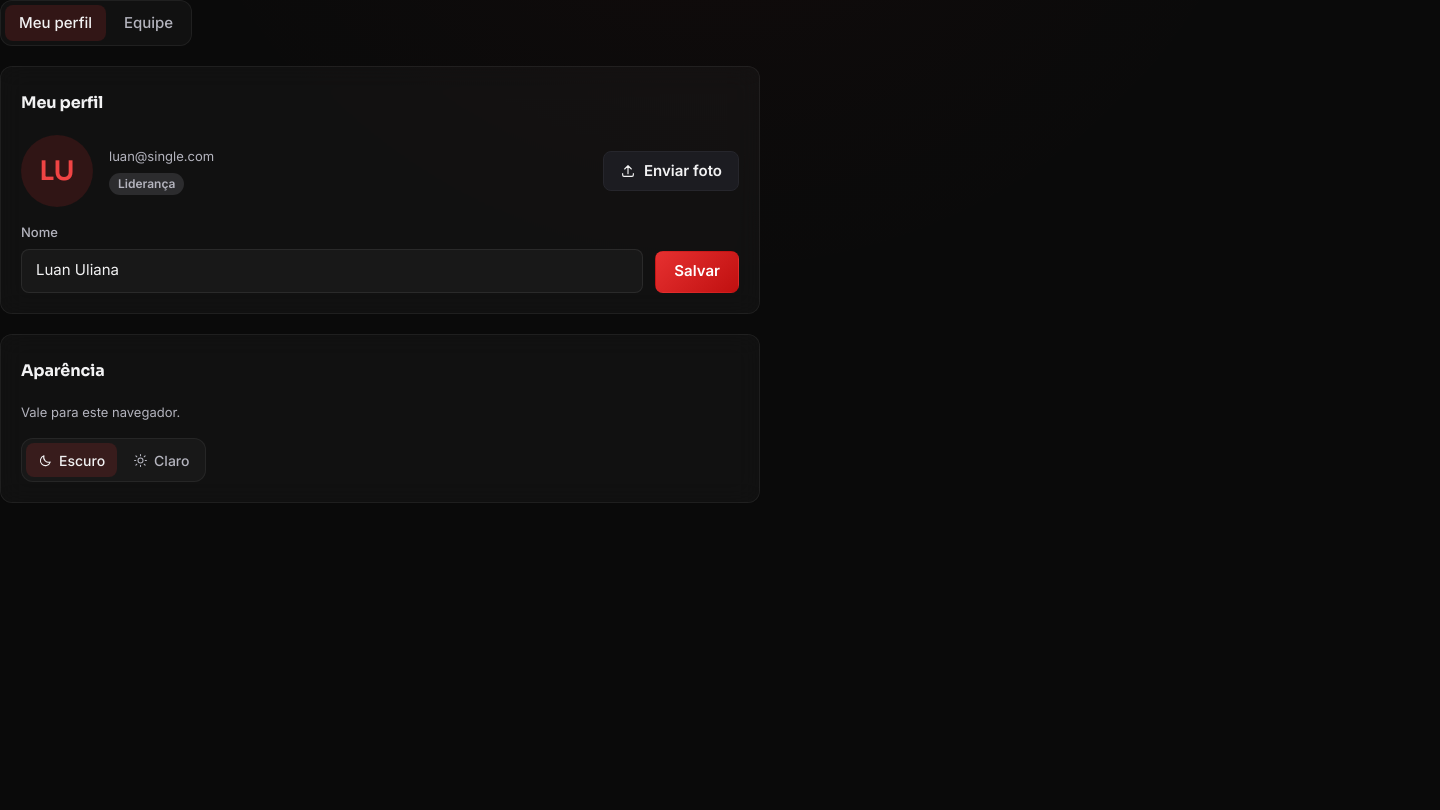
aba Equipe › desfaz e avisa quando o banco recusa a troca de cargo
The image size is (1440, 810).
Click the tab "Equipe" at (149, 23), box left=110, top=5, right=187, bottom=41
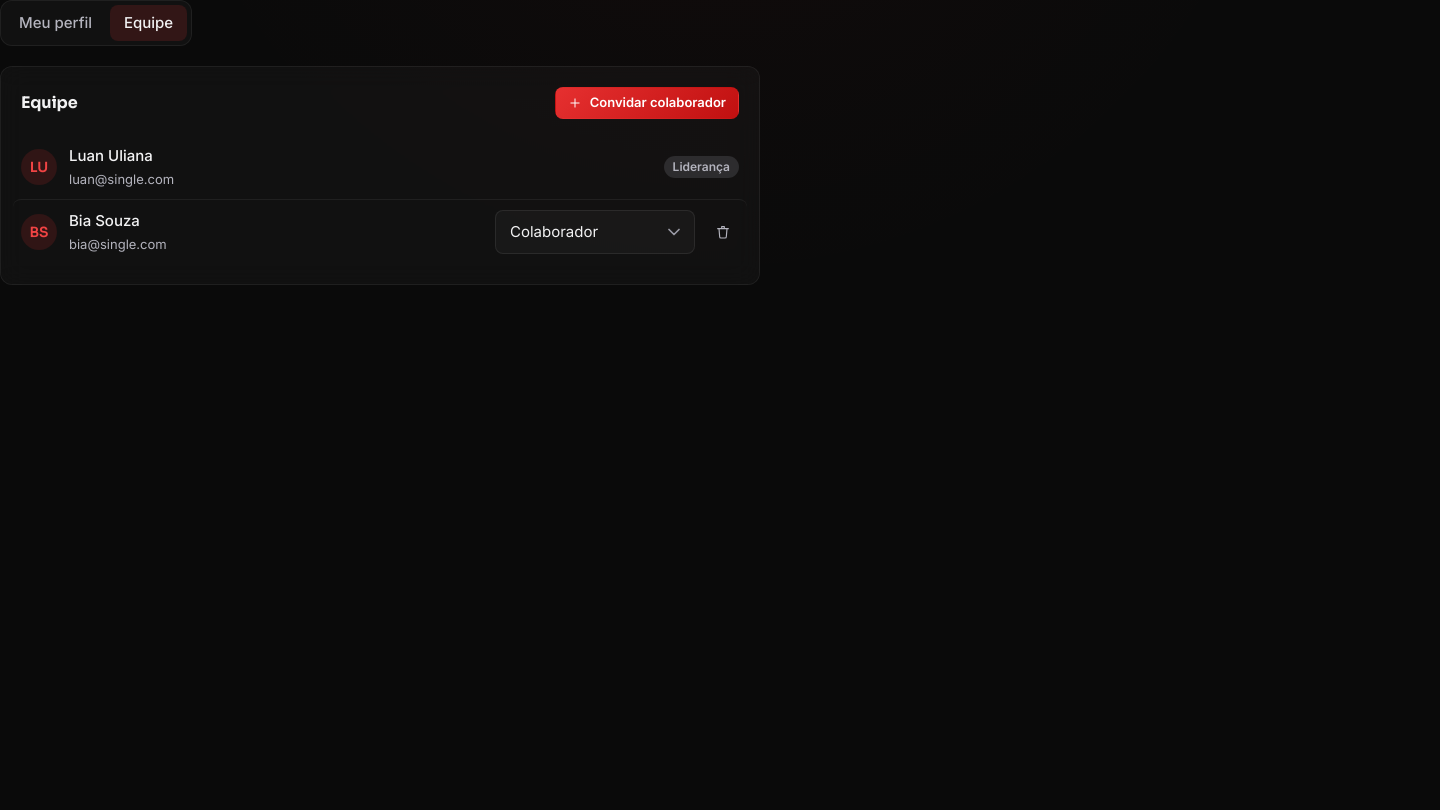
Select "Colaborador" in the dropdown named "Cargo de Bia Souza" at (595, 232), box left=495, top=210, right=695, bottom=254
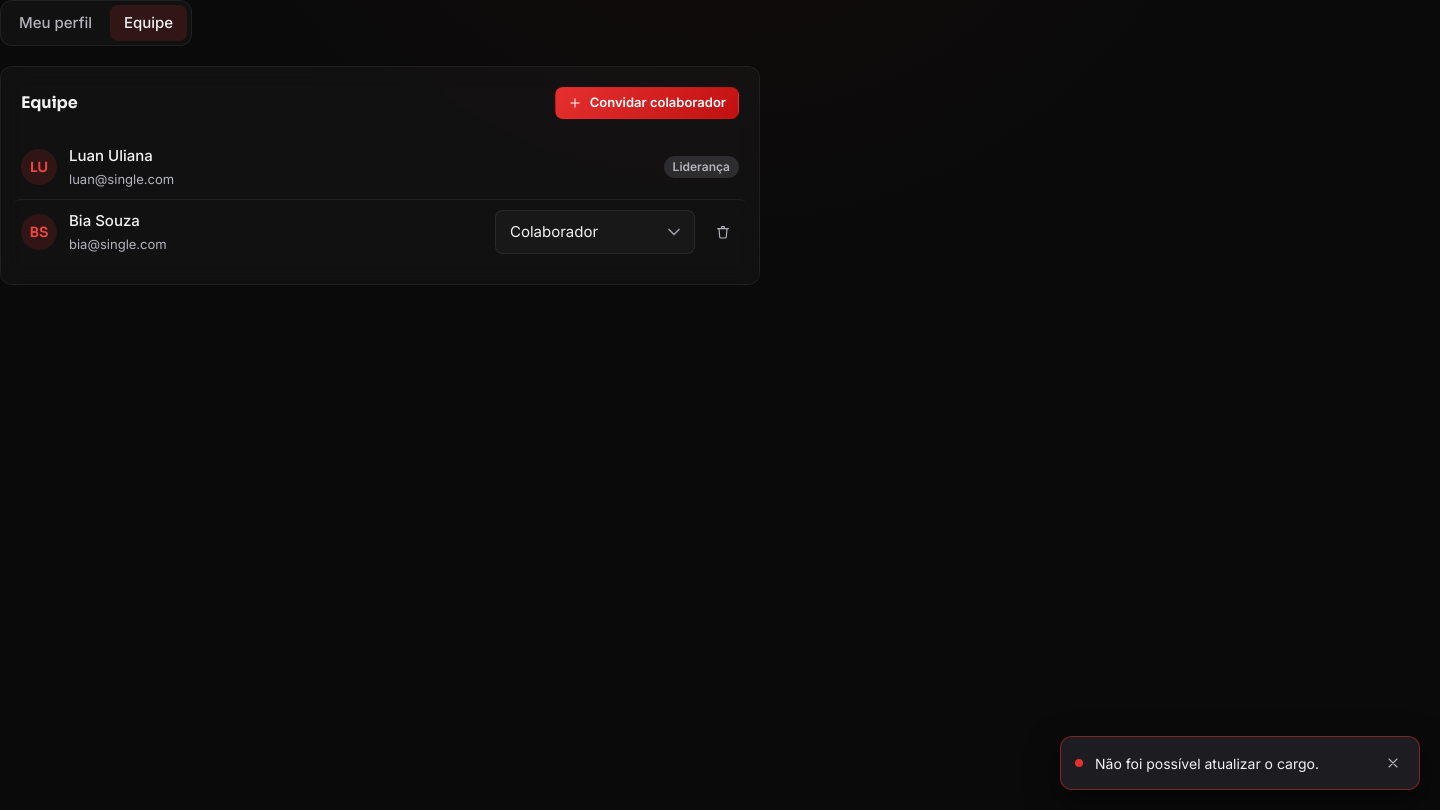
Check: the text "Não foi possível atualizar o cargo." is shown, box left=1095, top=754, right=1319, bottom=772
